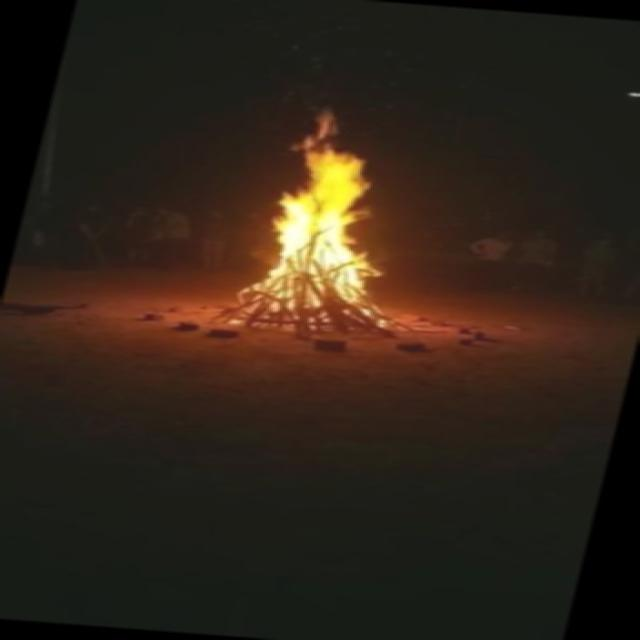fire: (151, 93, 474, 336)
